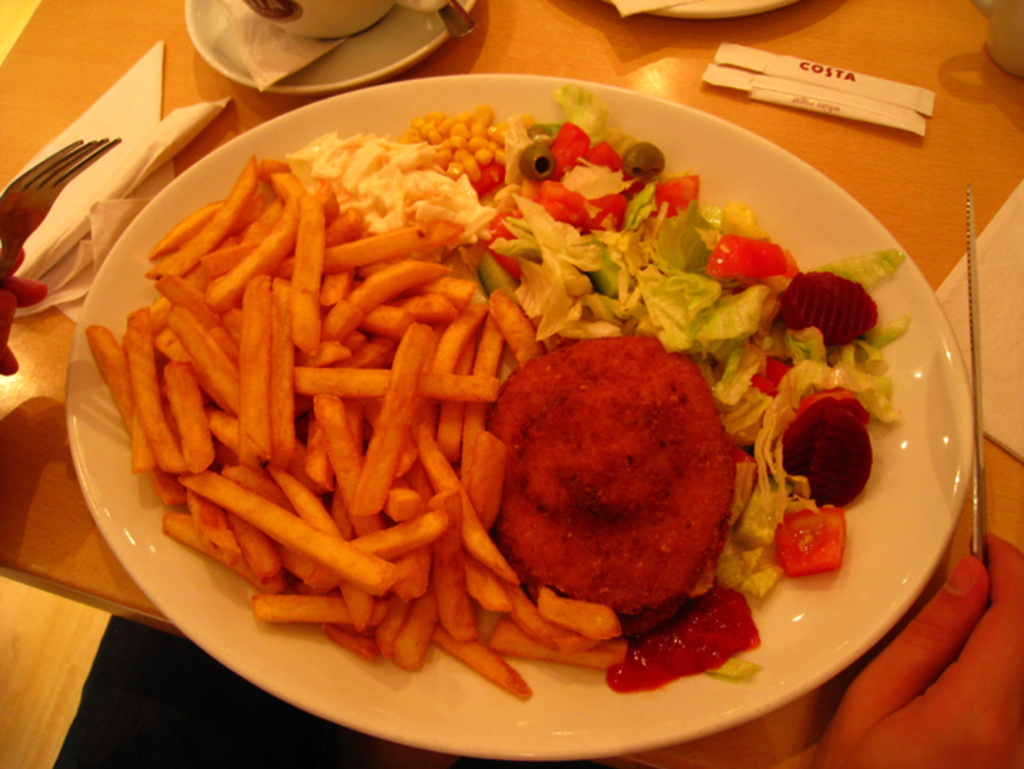French fries: (81, 145, 628, 713)
